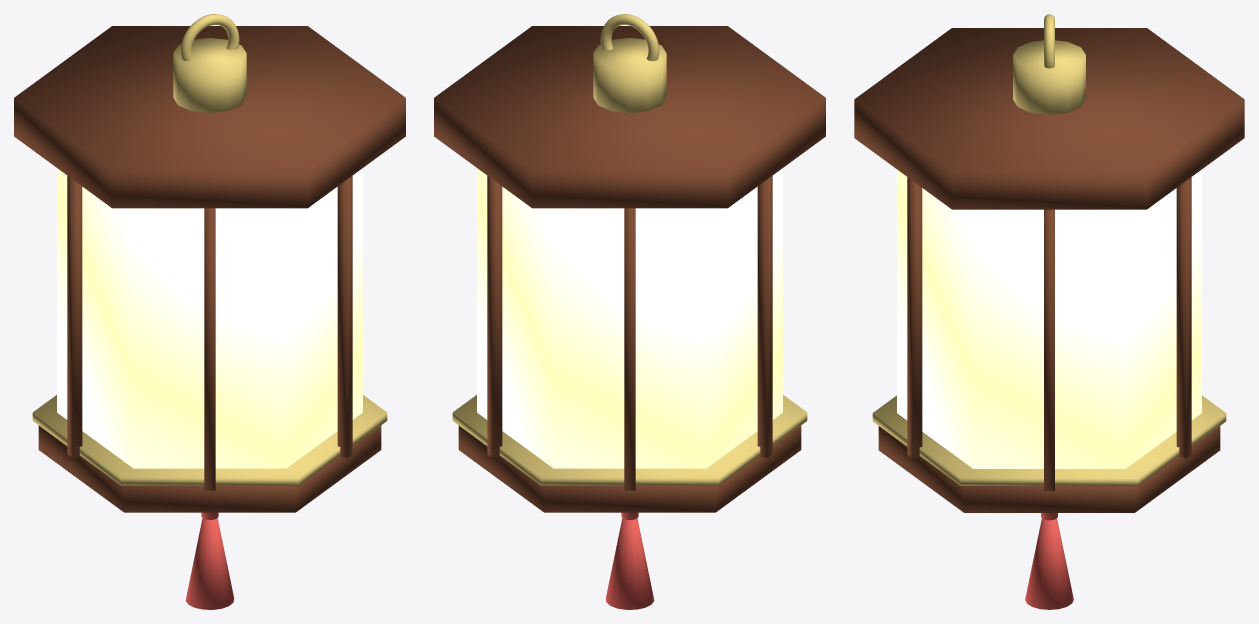
The model's file is den_long_kieu.glb.
3 views of the same model, side by side, from view 1: azimuth 30°, elevation 25°; view 2: azimuth 150°, elevation 25°; view 3: azimuth 270°, elevation 25° (orthographic).
Visible parts, largest first — view 1: Cylinder; view 2: Cylinder; view 3: Cylinder.
Part boxes in pixels (bbox=[...]): Cylinder: bbox=[14, 14, 405, 609]; Cylinder: bbox=[434, 14, 825, 609]; Cylinder: bbox=[854, 14, 1244, 609].
Bounding box in the file's own units: 0.4838 × 0.92 × 0.5586.
